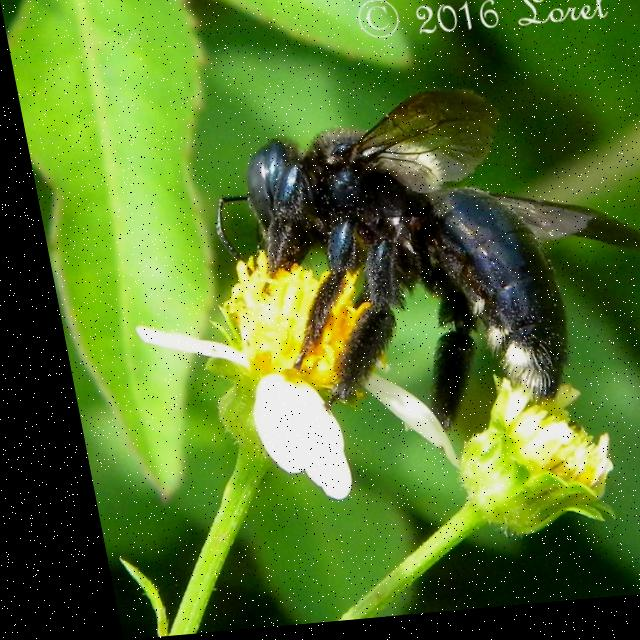Xylocopa: (136, 62, 640, 492)
